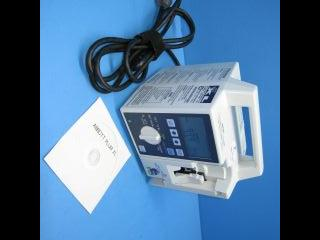plumxl1: (124, 61, 266, 200)
